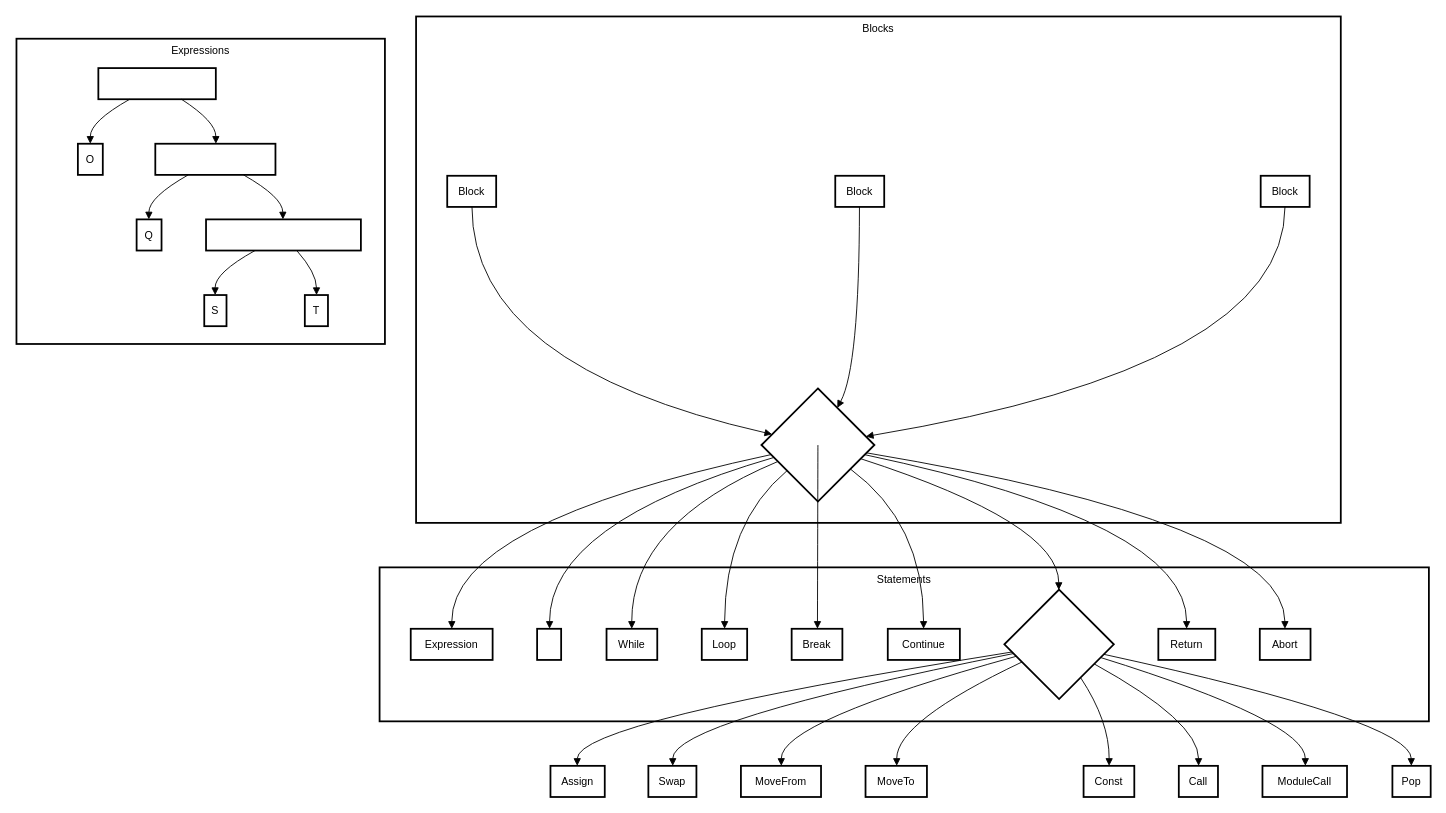
This 1446x813 diagram has some shape labels left out. Each missing label, with the centre of its shape:
"Binary operators" belongs at point 215,158.
"Command" belongs at point 1058,644.
"Comparison operators" belongs at point 283,234.
"If" belongs at point 549,643.
"Statement" belongs at point 817,444.
"Unary operators" belongs at point 156,83.
